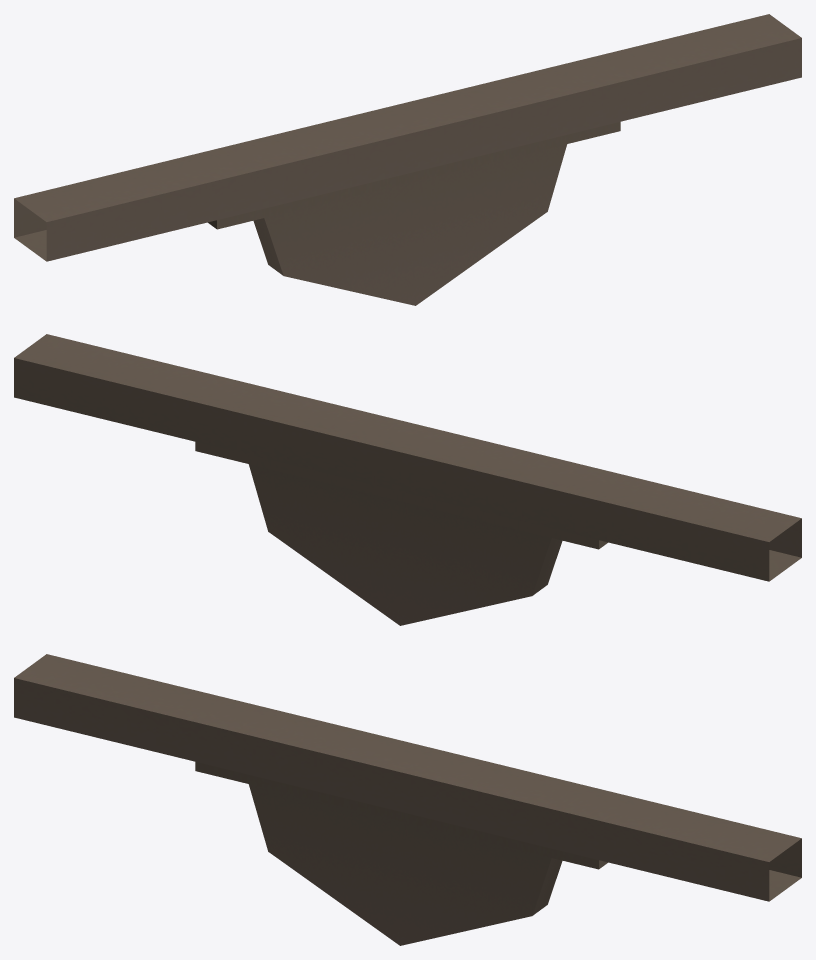
File: Beam_3.fbx
3 views of the same model, one above another, from view 1: azimuth 30°, elevation 25°; view 2: azimuth 150°, elevation 25°; view 3: azimuth 330°, elevation 25° (orthographic).
Parts seen in each view (by area): view 1: pCube767; view 2: pCube767; view 3: pCube767.
Part boxes in pixels (box(x1,y1,x2,y2)): pCube767: box(14, 14, 801, 305); pCube767: box(14, 334, 801, 625); pCube767: box(14, 654, 801, 945).
Size of the model in its own units: 400 by 92.19 by 30.
